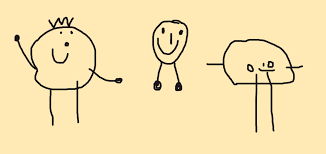feliz: (26, 16, 102, 92), (141, 15, 206, 98), (211, 31, 303, 87), (48, 31, 81, 65), (242, 55, 283, 77), (158, 26, 184, 59)
